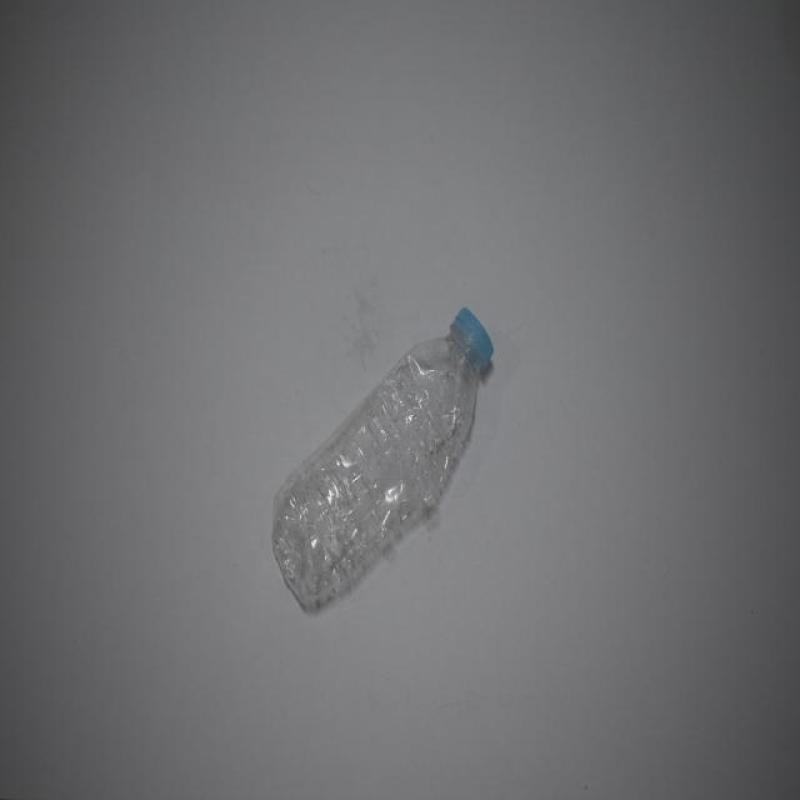botella: (272, 308, 497, 614)
